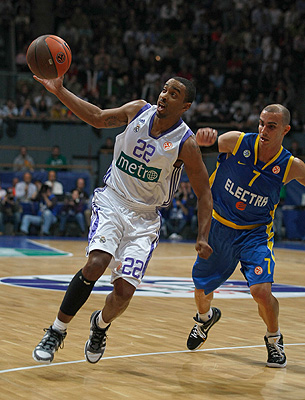basketball: (26, 35, 71, 80)
